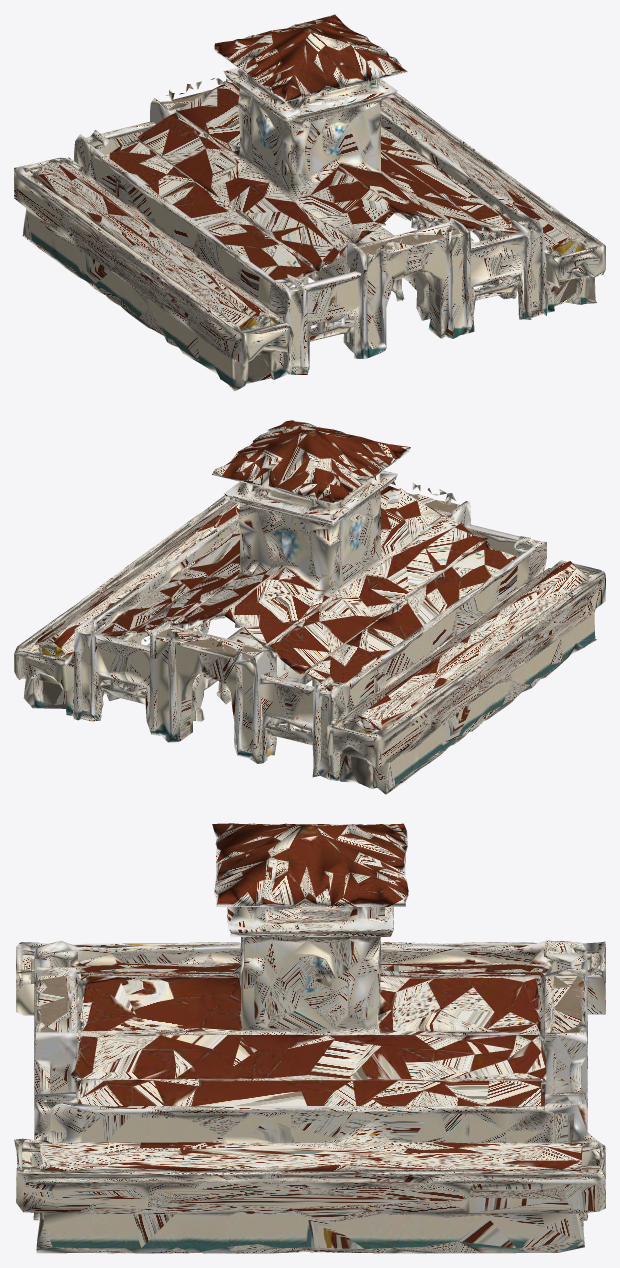
The model's file is cho-ben-thanh.glb.
3 renders of one model, top to bottom at view 1: azimuth 30°, elevation 25°; view 2: azimuth 150°, elevation 25°; view 3: azimuth 270°, elevation 25°, orthographic. The views are drawn at different scales.
Bounding box in the file's own units: 0.9204 × 0.5795 × 0.9963.
Materials: 1 (1 with a texture image).
